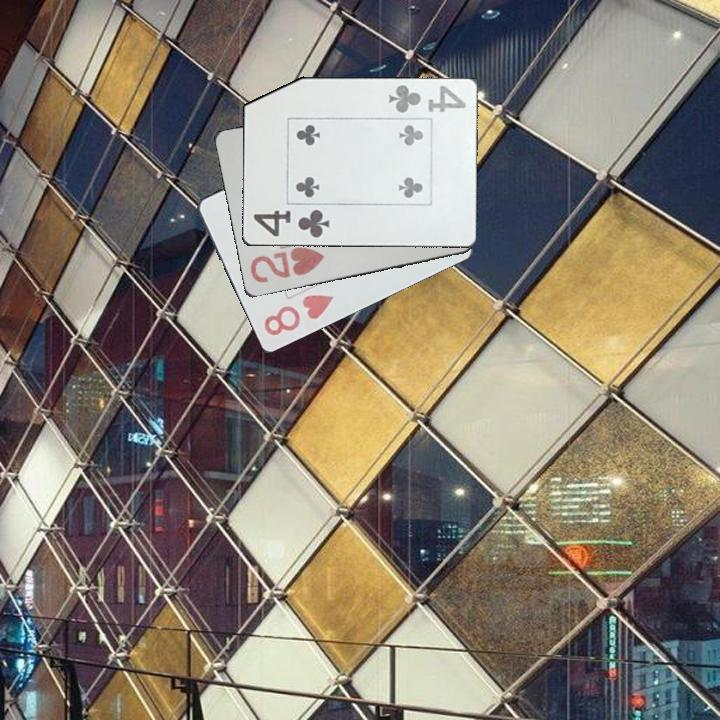2h: (246, 244, 327, 286)
4c: (250, 206, 332, 241), (385, 82, 468, 116)
8h: (260, 289, 337, 339)
